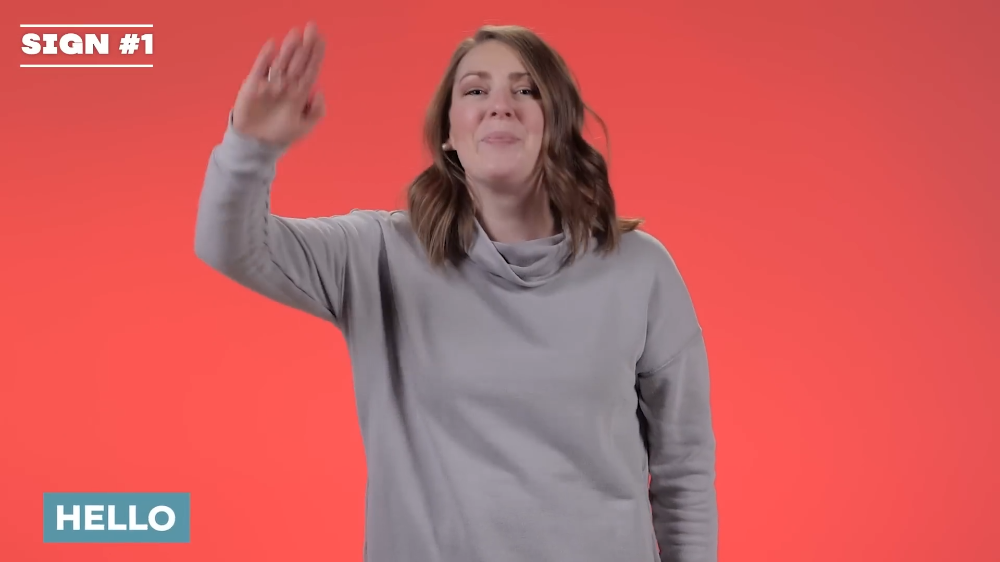hello: (233, 15, 332, 148)
